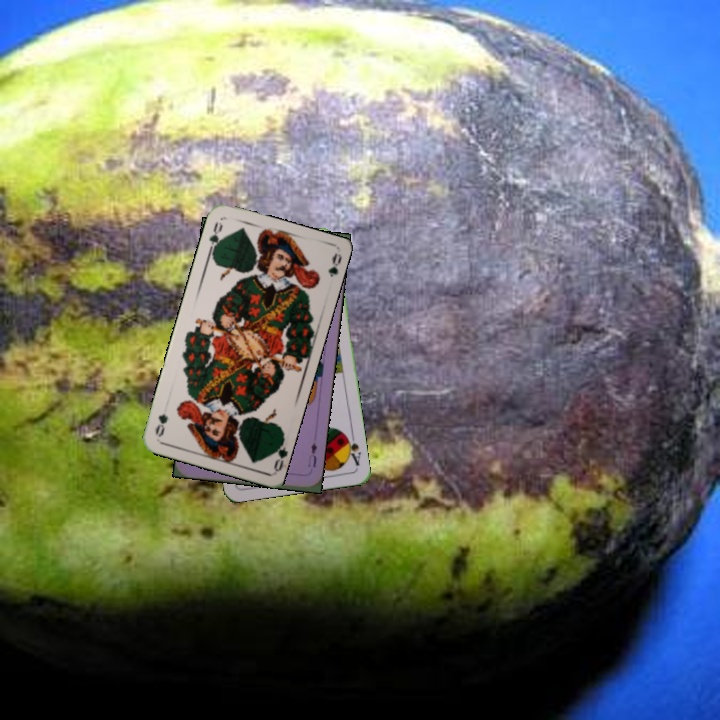EU: (304, 438, 319, 470)
GO: (266, 432, 288, 473), (204, 217, 225, 257)
SA: (341, 429, 364, 468)
